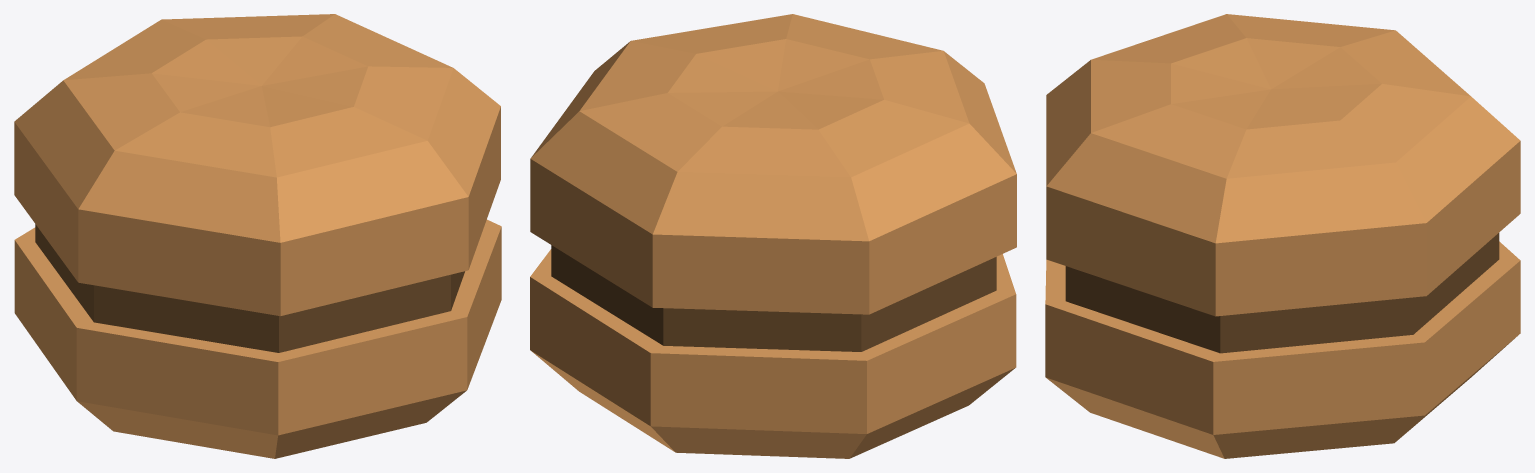
File: circle_sandwich_03.fbx
3 renders of one model, left to right at view 1: azimuth 30°, elevation 25°; view 2: azimuth 150°, elevation 25°; view 3: azimuth 270°, elevation 25°, orthographic.
Parts seen in each view (by area): view 1: Sphere.003; view 2: Sphere.003; view 3: Sphere.003.
Part boxes in pixels (x1,y1,x2,y2): Sphere.003: [14, 14, 501, 458]; Sphere.003: [530, 14, 1016, 458]; Sphere.003: [1045, 14, 1520, 458].
Bounding box in the file's own units: 115 × 79.98 × 113.
